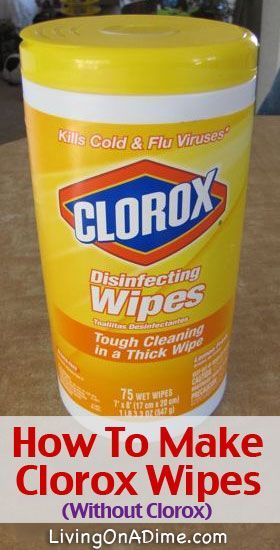Wipes: (13, 8, 265, 446)
